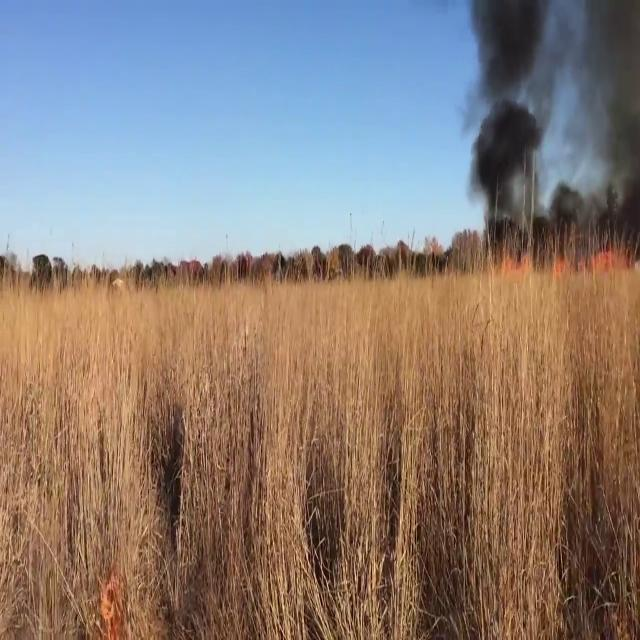Smoke: (457, 0, 573, 243), (572, 0, 640, 248)
